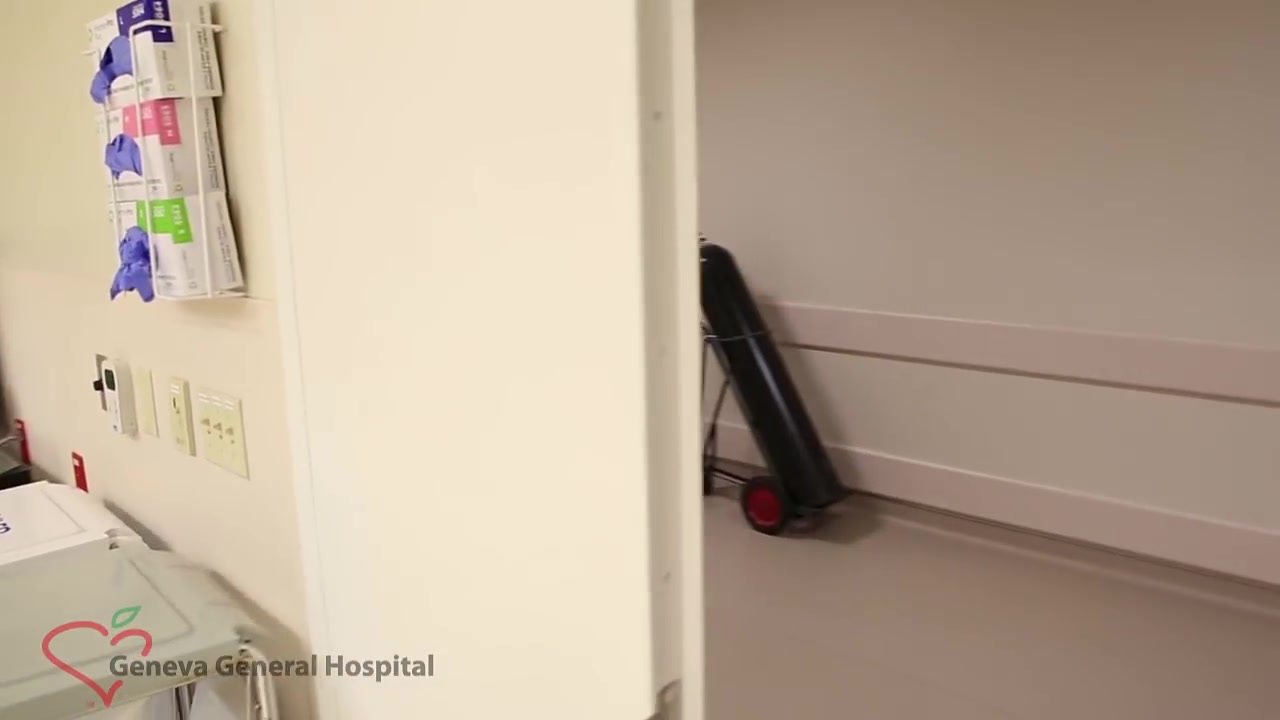dispenser: (88, 5, 244, 297)
light_switch: (192, 390, 248, 479)
